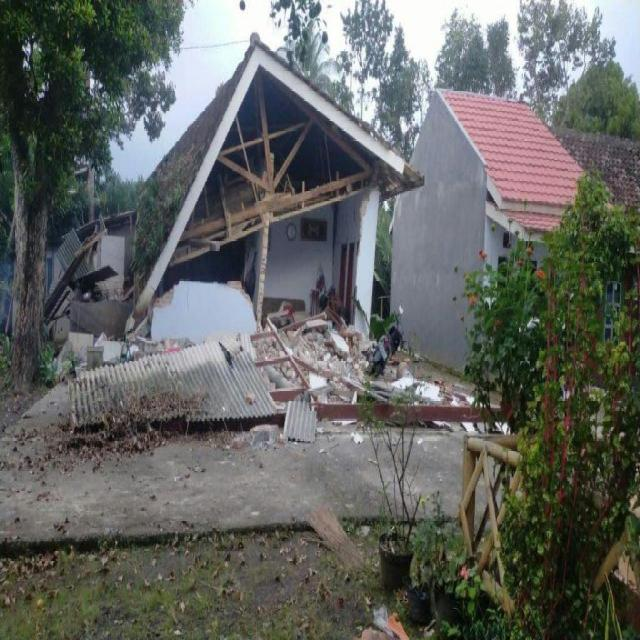damage: (58, 308, 480, 474), (29, 182, 142, 325)
